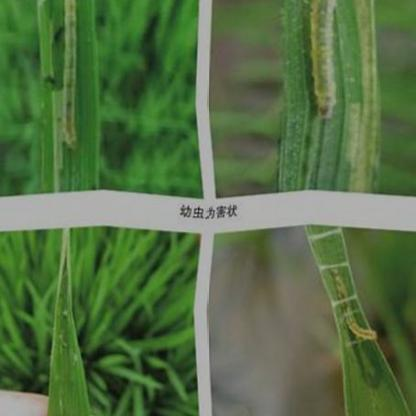leaf-folder: (290, 0, 353, 127), (46, 0, 99, 150), (317, 266, 385, 368)
